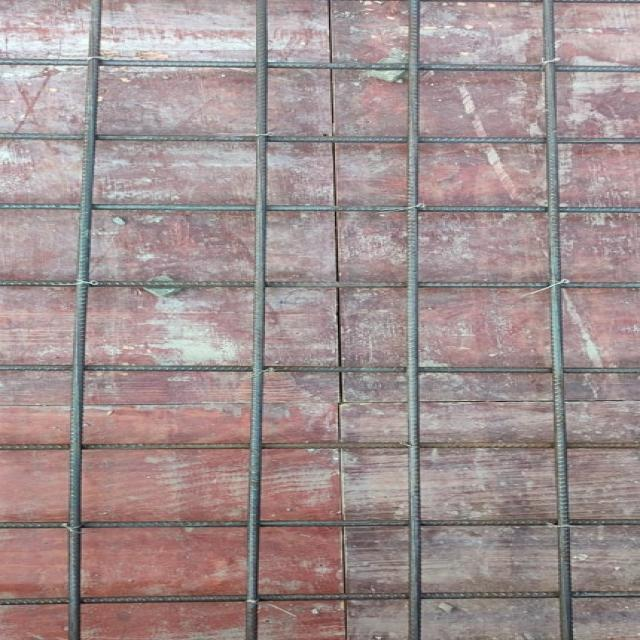ribbed bar: (63, 0, 105, 639), (538, 0, 575, 639), (241, 0, 270, 639), (404, 0, 425, 639), (0, 588, 637, 606), (0, 57, 637, 74), (0, 515, 637, 530), (0, 132, 637, 146), (0, 201, 637, 214), (0, 439, 637, 452), (0, 278, 637, 290), (0, 363, 637, 374)
